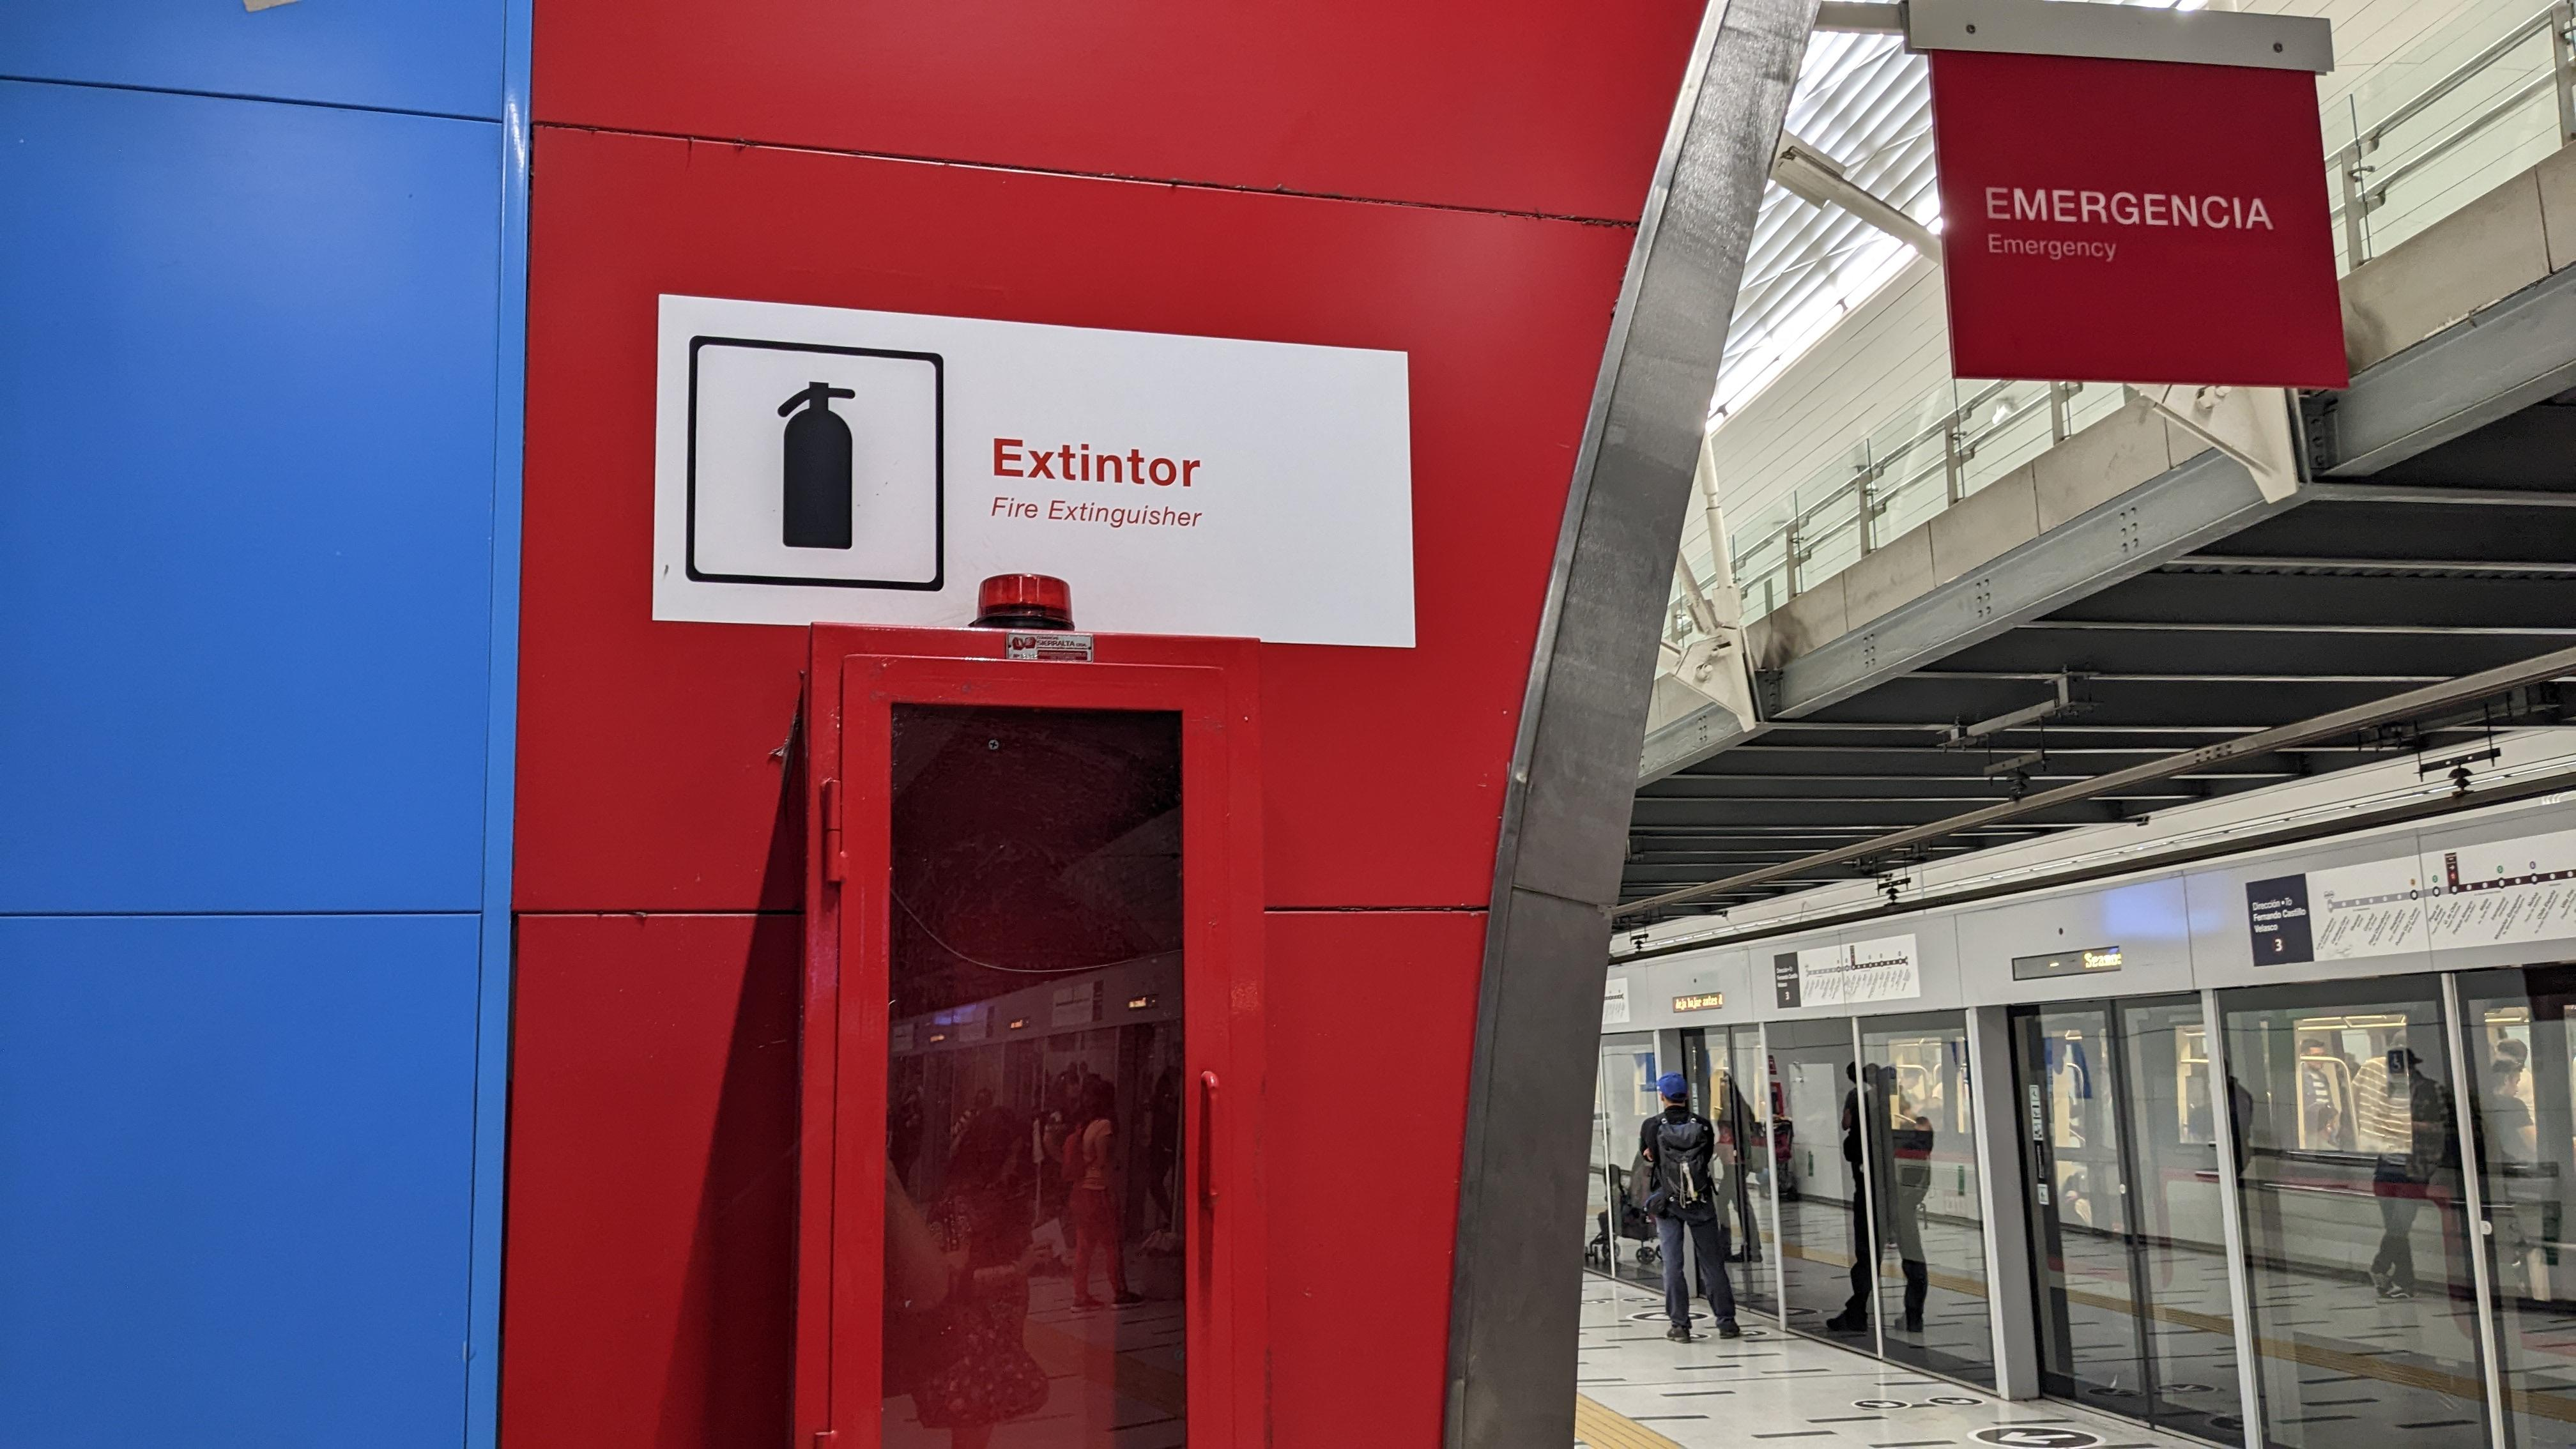extinguisher symbol: (777, 379, 869, 554)
